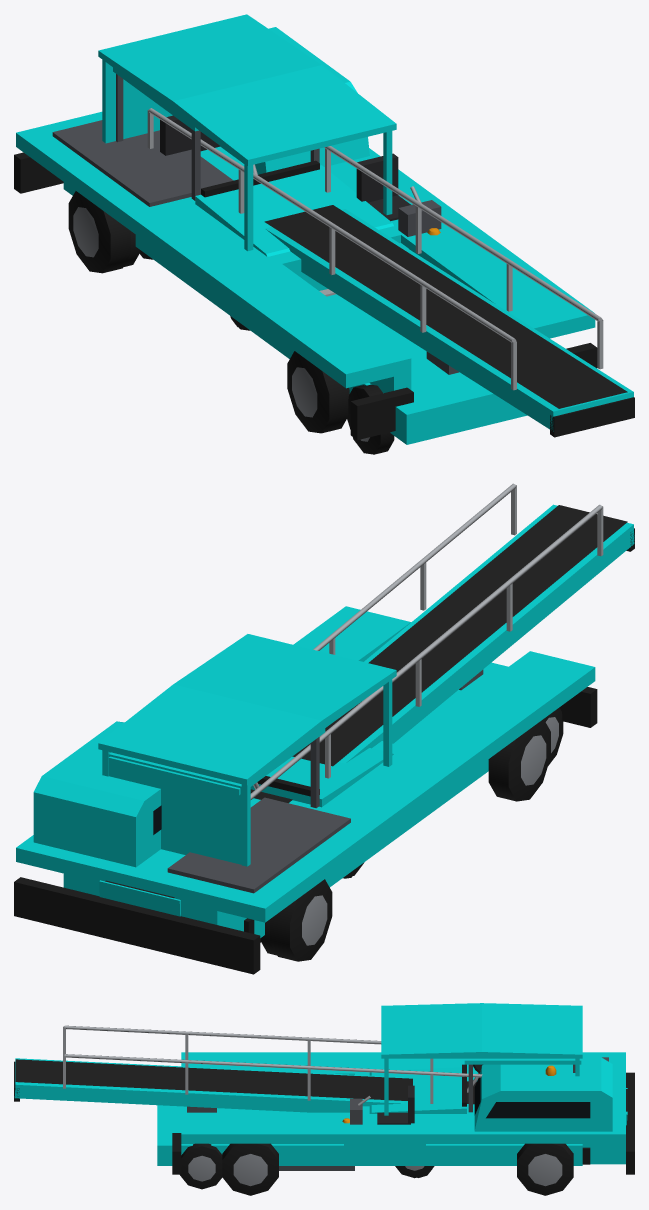
File: ac-ground.glb
The picture shows the model from 3 angles, top to bottom: view 1: azimuth 30°, elevation 25°; view 2: azimuth 150°, elevation 25°; view 3: azimuth 270°, elevation 25°; orthographic projection. The views are drawn at different scales.
Parts seen in each view (by area): view 1: tug_lod0, beltLoader_lod0, baggageCart_lod0, baggageTractor_lod0; view 2: tug_lod0, beltLoader_lod0, baggageCart_lod0, baggageTractor_lod0; view 3: tug_lod0, beltLoader_lod0, baggageCart_lod0, baggageTractor_lod0.
Boxes of the visible parts, x1,y1,x2,y2 form: tug_lod0: [14, 27, 597, 439]; beltLoader_lod0: [123, 108, 634, 454]; baggageCart_lod0: [98, 14, 396, 326]; baggageTractor_lod0: [113, 67, 393, 330]; tug_lod0: [14, 606, 597, 974]; beltLoader_lod0: [99, 483, 634, 955]; baggageCart_lod0: [98, 634, 396, 878]; baggageTractor_lod0: [108, 728, 393, 942]; tug_lod0: [172, 1052, 634, 1195]; beltLoader_lod0: [14, 1025, 627, 1189]; baggageCart_lod0: [381, 1003, 582, 1177]; baggageTractor_lod0: [369, 1058, 581, 1178].
Size of what is drawn, in the model's own units: 2.6 by 1.95 by 8.32.
